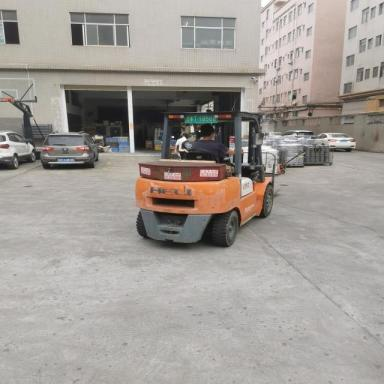forklift: (128, 107, 282, 258)
